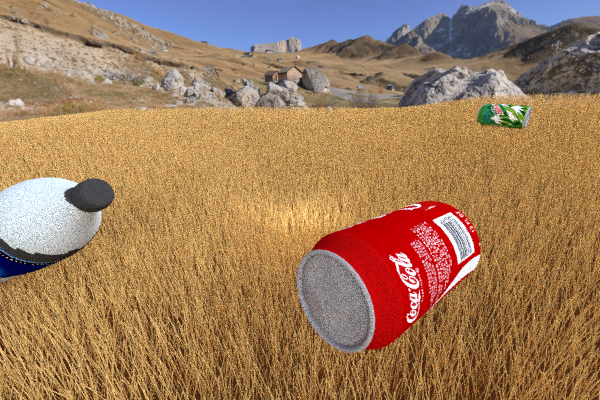bottle: (0, 177, 114, 288)
can: (296, 200, 480, 352), (476, 103, 531, 129)
